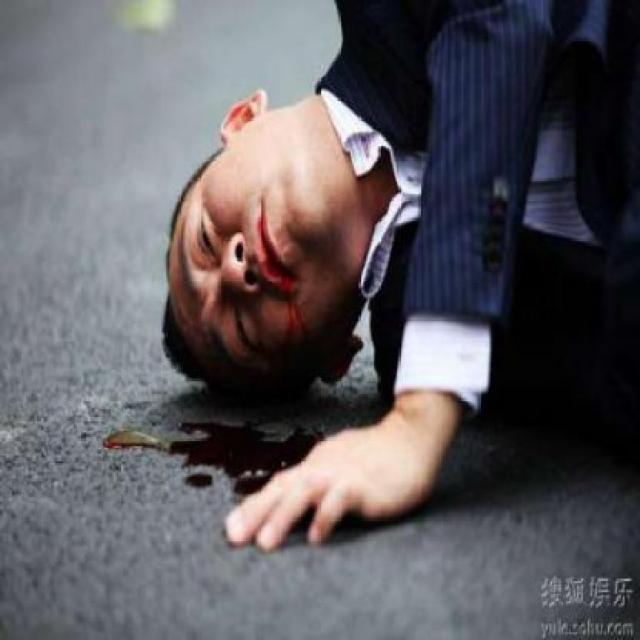fall: (154, 0, 623, 589)
